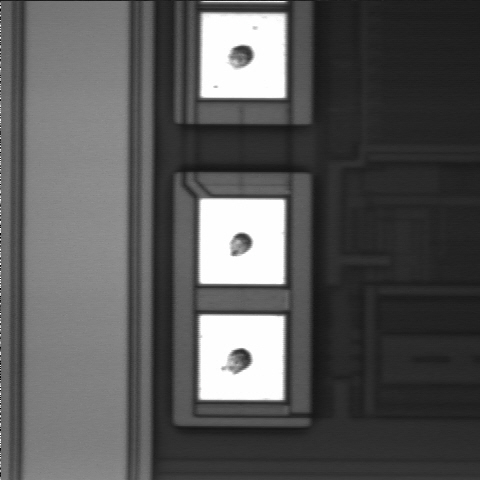pad: (199, 315, 284, 400), (201, 13, 285, 98), (200, 199, 284, 284)
